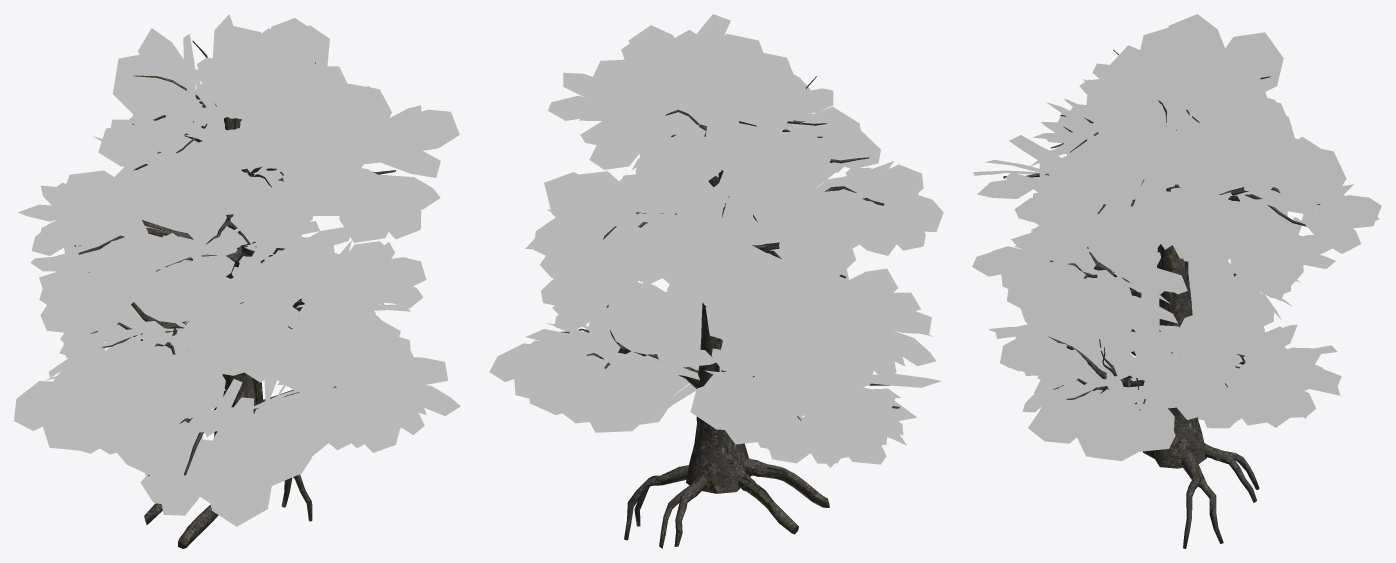
Rendered from tree_beech01.DAE.
3 views of the same model, side by side, from view 1: azimuth 30°, elevation 25°; view 2: azimuth 150°, elevation 25°; view 3: azimuth 270°, elevation 25° (orthographic). The views are drawn at different scales.
Parts seen in each view (by area): view 1: Object529, beech_modelling; view 2: Object529, beech_modelling; view 3: Object529, beech_modelling.
Boxes of the visible parts, box(x1,y1,x2,y2) form: Object529: box(14, 14, 460, 526); beech_modelling: box(74, 40, 395, 548); Object529: box(489, 14, 943, 467); beech_modelling: box(561, 76, 899, 548); Object529: box(972, 14, 1381, 461); beech_modelling: box(1003, 49, 1319, 548).
Bounding box in the file's own units: 17.14 × 21.78 × 16.88.
